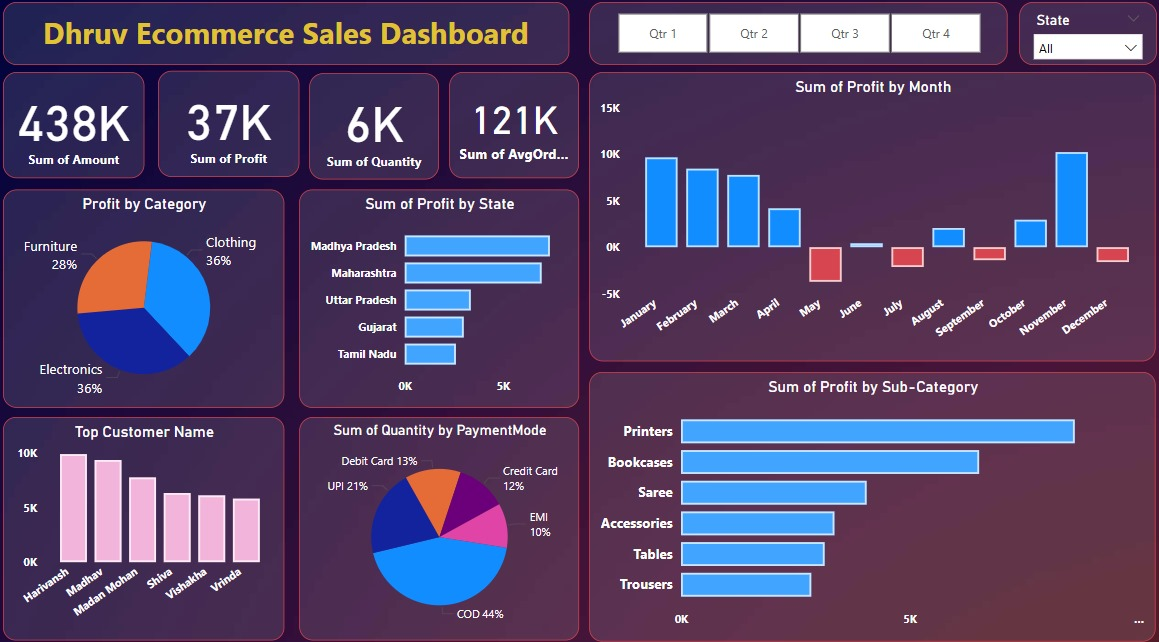

The page's visual inventory and layout, read from the dashboard file:
{"tool":"powerbi","page":{"name":"Page 1","canvas":[1280,720],"ordinal":0},"visuals":[{"type":"columnChart","fields":{"Y":["Details.Profit"],"Category":["Orders.Order Date.Variation.Date Hierarchy.Month1"]},"box":[651.4,87.1,618.6,315.7],"z":0},{"type":"pieChart","title":"Profit by Category","fields":{"Y":["Details.Profit"],"Category":["Details.Category"]},"box":[11.4,215.7,307.1,238.6],"z":1000},{"type":"barChart","fields":{"Category":["Orders.State"],"Y":["Details.Profit"]},"box":[334.3,215.7,305.7,238.6],"z":2000},{"type":"card","fields":{"Values":["Details.Profit"]},"box":[180.2,86,154.2,116],"z":3000},{"type":"card","fields":{"Values":["Details.Quantity"]},"box":[345.7,88.6,141.4,115.7],"z":4000},{"type":"card","fields":{"Values":["Details.Amount"]},"box":[11.4,87.1,154.3,115.7],"z":5000},{"type":"barChart","fields":{"Category":["Details.Sub-Category"],"Y":["Details.Profit"]},"box":[651.4,414.3,618.6,294.3],"z":6000},{"type":"pieChart","fields":{"Category":["Details.PaymentMode"],"Y":["Details.Quantity"]},"box":[334.3,464.3,305.7,244.3],"z":7000},{"type":"card","fields":{"Values":["Details.AvgOrder"]},"box":[498.6,87.1,141.4,115.7],"z":8000},{"type":"columnChart","title":" Top Customer Name","fields":{"Category":["Orders.CustomerName"],"Y":["Details.Amount"]},"box":[11.4,464.3,307.1,244.3],"z":9000},{"type":"slicer","fields":{"Values":["Orders.Order Date.Variation.Date Hierarchy.Quarter1"]},"box":[651.4,11.4,457.1,68.6],"z":10000},{"type":"slicer","fields":{"Values":["Orders.State"]},"box":[1120,11.4,150,68.6],"z":11000},{"type":"textbox","box":[11.4,11.4,618.6,68.6],"z":12000}]}

Visuals, with their boxes in screenshot pixels (x1, y1, x2, y2), scaled from the page's 1280x720 canvas onto the 1159x642 screenshot:
columnChart - Details.Profit x Orders.Order Date.Variation.Date Hierarchy.Month1: (x1=590, y1=78, x2=1150, y2=359)
"Profit by Category" pieChart: (x1=10, y1=192, x2=288, y2=405)
barChart - Orders.State x Details.Profit: (x1=303, y1=192, x2=580, y2=405)
card - Details.Profit: (x1=163, y1=77, x2=303, y2=180)
card - Details.Quantity: (x1=313, y1=79, x2=441, y2=182)
card - Details.Amount: (x1=10, y1=78, x2=150, y2=181)
barChart - Details.Sub-Category x Details.Profit: (x1=590, y1=369, x2=1150, y2=632)
pieChart - Details.PaymentMode x Details.Quantity: (x1=303, y1=414, x2=580, y2=632)
card - Details.AvgOrder: (x1=451, y1=78, x2=580, y2=181)
" Top Customer Name" columnChart: (x1=10, y1=414, x2=288, y2=632)
slicer - Orders.Order Date.Variation.Date Hierarchy.Quarter1: (x1=590, y1=10, x2=1004, y2=71)
slicer - Orders.State: (x1=1014, y1=10, x2=1150, y2=71)
textbox: (x1=10, y1=10, x2=570, y2=71)
